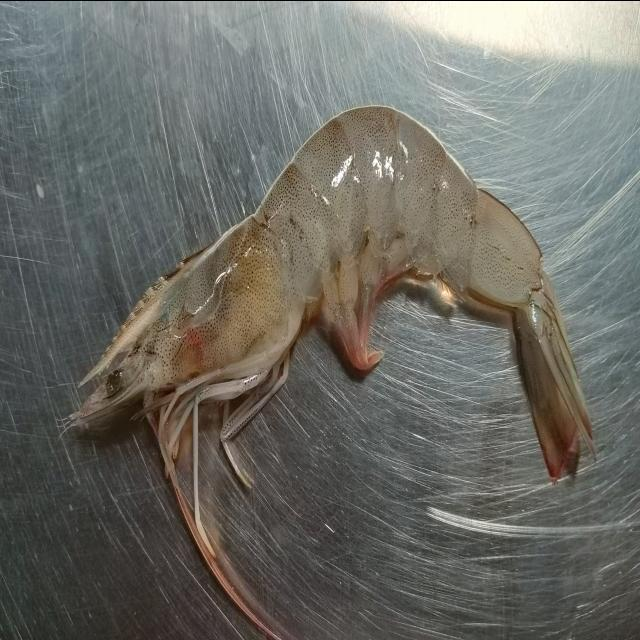shrimp: (46, 98, 594, 488)
